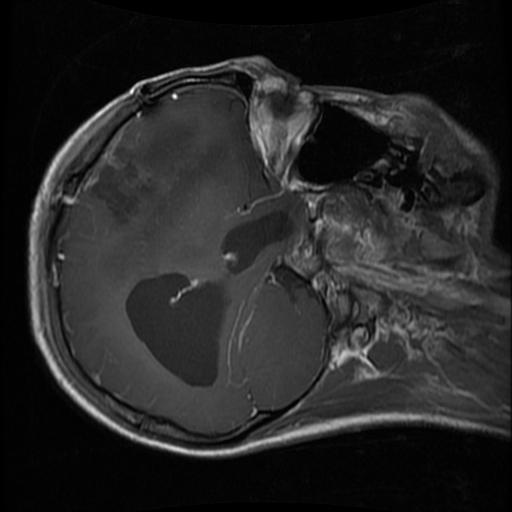glioma: (127, 214, 293, 387)
